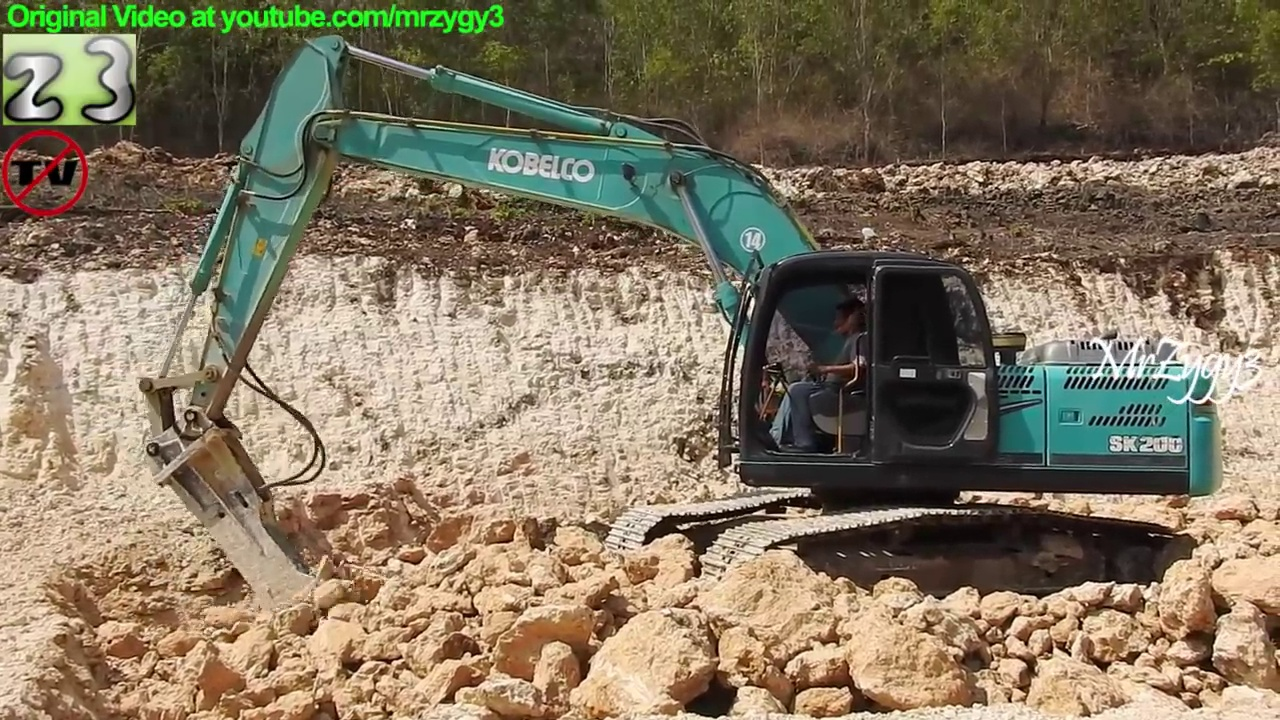excavator breaker: (137, 33, 1224, 626)
